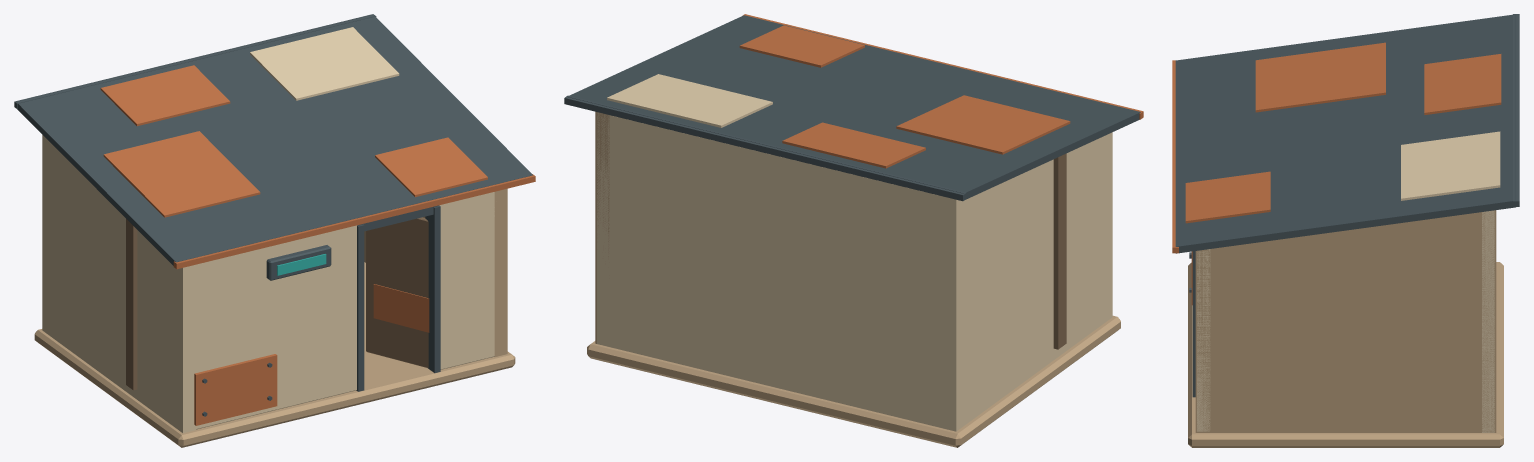
The model's file is SM_Shelter.fbx.
3 views of the same model, side by side, from view 1: azimuth 30°, elevation 25°; view 2: azimuth 150°, elevation 25°; view 3: azimuth 270°, elevation 25° (orthographic). The views are drawn at different scales.
Parts seen in each view (by area): view 1: SM_Shelter; view 2: SM_Shelter; view 3: SM_Shelter.
Part boxes in pixels (x1,y1,x2,y2): SM_Shelter: [14, 14, 535, 447]; SM_Shelter: [564, 14, 1143, 447]; SM_Shelter: [1172, 14, 1519, 447].
Bounding box in the file's own units: 4.42 × 3.47 × 2.81.
